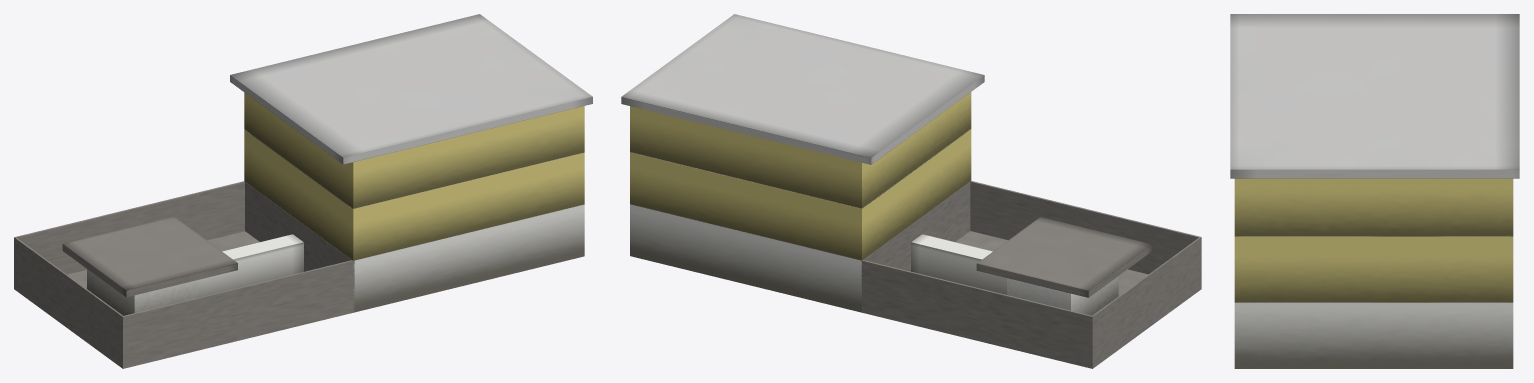
File: 20 ExportTime.glb
3 renders of one model, left to right at view 1: azimuth 30°, elevation 25°; view 2: azimuth 150°, elevation 25°; view 3: azimuth 270°, elevation 25°, orthographic. The views are drawn at different scales.
Visible parts, largest first — view 1: Roof_Baked, AltBasement_Baked, CubeFirstFloor_Baked, CubeSecondFloor_Baked, CubeBasement_Baked, Roof.001_Baked, Tunnel_Baked, AltRoom_Baked; view 2: Roof_Baked, AltBasement_Baked, CubeFirstFloor_Baked, CubeSecondFloor_Baked, CubeBasement_Baked, Roof.001_Baked, Tunnel_Baked, AltRoom_Baked; view 3: Roof_Baked, CubeBasement_Baked, CubeFirstFloor_Baked, CubeSecondFloor_Baked.
Part boxes in pixels (x1,y1,x2,y2): Roof_Baked: (230, 14, 592, 164); AltBasement_Baked: (14, 181, 354, 368); CubeFirstFloor_Baked: (244, 129, 584, 260); CubeSecondFloor_Baked: (244, 92, 584, 208); CubeBasement_Baked: (353, 204, 584, 312); Roof.001_Baked: (62, 216, 237, 297); Tunnel_Baked: (198, 234, 303, 297); AltRoom_Baked: (87, 269, 198, 315); Roof_Baked: (621, 14, 984, 164); AltBasement_Baked: (860, 181, 1201, 368); CubeFirstFloor_Baked: (630, 129, 971, 260); CubeSecondFloor_Baked: (630, 92, 971, 208); CubeBasement_Baked: (630, 204, 861, 312); Roof.001_Baked: (976, 217, 1152, 297); Tunnel_Baked: (911, 234, 1006, 294); AltRoom_Baked: (1007, 276, 1118, 315); Roof_Baked: (1230, 14, 1519, 178); CubeBasement_Baked: (1234, 302, 1513, 368); CubeFirstFloor_Baked: (1234, 236, 1513, 302); CubeSecondFloor_Baked: (1234, 178, 1513, 236).
Size of the model in its own units: 139 by 47.84 by 58.34.
24 materials, 24 textured.
